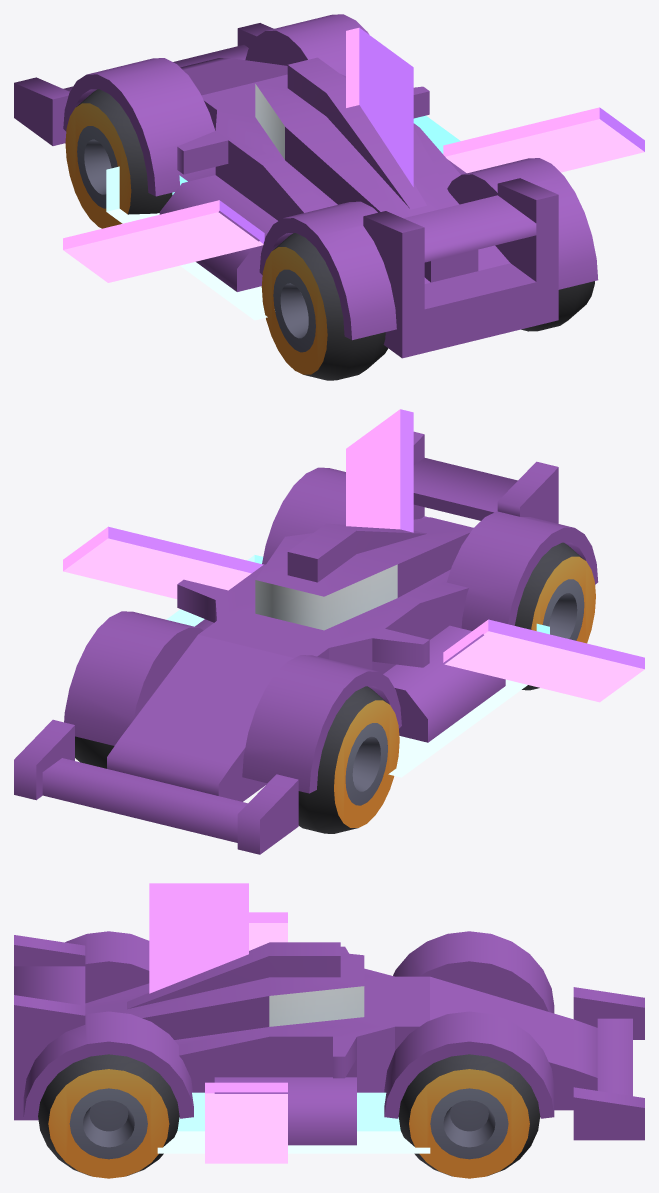
File: star.glb
3 views of the same model, one above another, from view 1: azimuth 30°, elevation 25°; view 2: azimuth 150°, elevation 25°; view 3: azimuth 270°, elevation 25° (orthographic). The views are drawn at different scales.
Parts seen in each view (by area): view 1: body, wheel-back-left, wing-l, wheel-front-left, wing-r, fin, nacelle-l, wheel-back-right, nacelle-r; view 2: body, wheel-front-left, wing-l, wing-r, fin, wheel-back-left, nacelle-l, wheel-front-right; view 3: body, wheel-back-right, wheel-front-right, fin, wing-r, nacelle-r, wing-l.
Boxes of the visible parts, left/top/right/bottom form: body: left=14, top=14, right=598, bottom=358; wheel-back-left: left=261, top=233, right=387, bottom=380; wing-l: left=63, top=200, right=264, bottom=282; wheel-front-left: left=65, top=89, right=172, bottom=228; wing-r: left=443, top=107, right=644, bottom=173; fin: left=346, top=27, right=413, bottom=186; nacelle-l: left=106, top=166, right=267, bottom=320; wheel-back-right: left=521, top=281, right=594, bottom=331; nacelle-r: left=413, top=115, right=460, bottom=153; body: left=14, top=431, right=598, bottom=854; wheel-front-left: left=298, top=686, right=399, bottom=833; wing-l: left=443, top=619, right=644, bottom=702; wing-r: left=63, top=526, right=263, bottom=598; fin: left=346, top=409, right=413, bottom=532; wheel-back-left: left=514, top=542, right=595, bottom=690; nacelle-l: left=388, top=623, right=549, bottom=777; wheel-front-right: left=75, top=736, right=114, bottom=768; body: left=14, top=931, right=644, bottom=1145; wheel-back-right: left=38, top=1054, right=179, bottom=1178; wheel-front-right: left=398, top=1054, right=540, bottom=1178; fin: left=149, top=883, right=248, bottom=993; wing-r: left=205, top=1082, right=287, bottom=1163; nacelle-r: left=157, top=1092, right=430, bottom=1153; wing-l: left=249, top=912, right=287, bottom=950.
Bounding box in the file's own units: 2.75 × 1.29 × 3.05.
4 materials, 1 textured.
